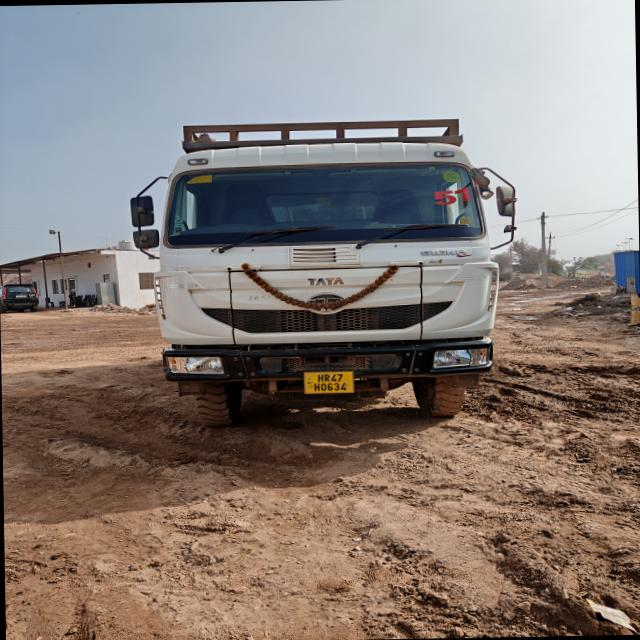license_plate: (304, 372, 354, 394), (15, 296, 26, 298)
